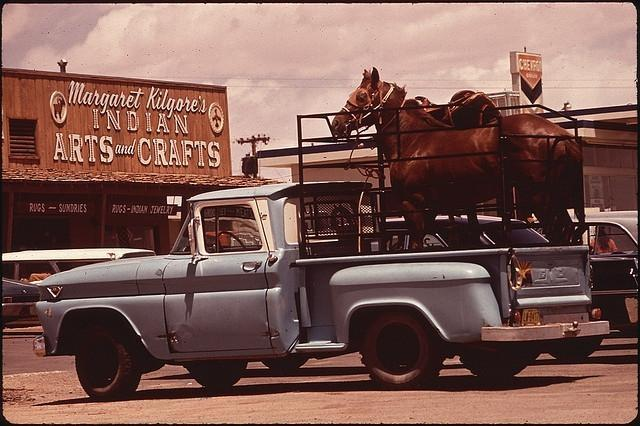car: (581, 209, 640, 339), (1, 274, 40, 320)
truck: (26, 67, 610, 402)
